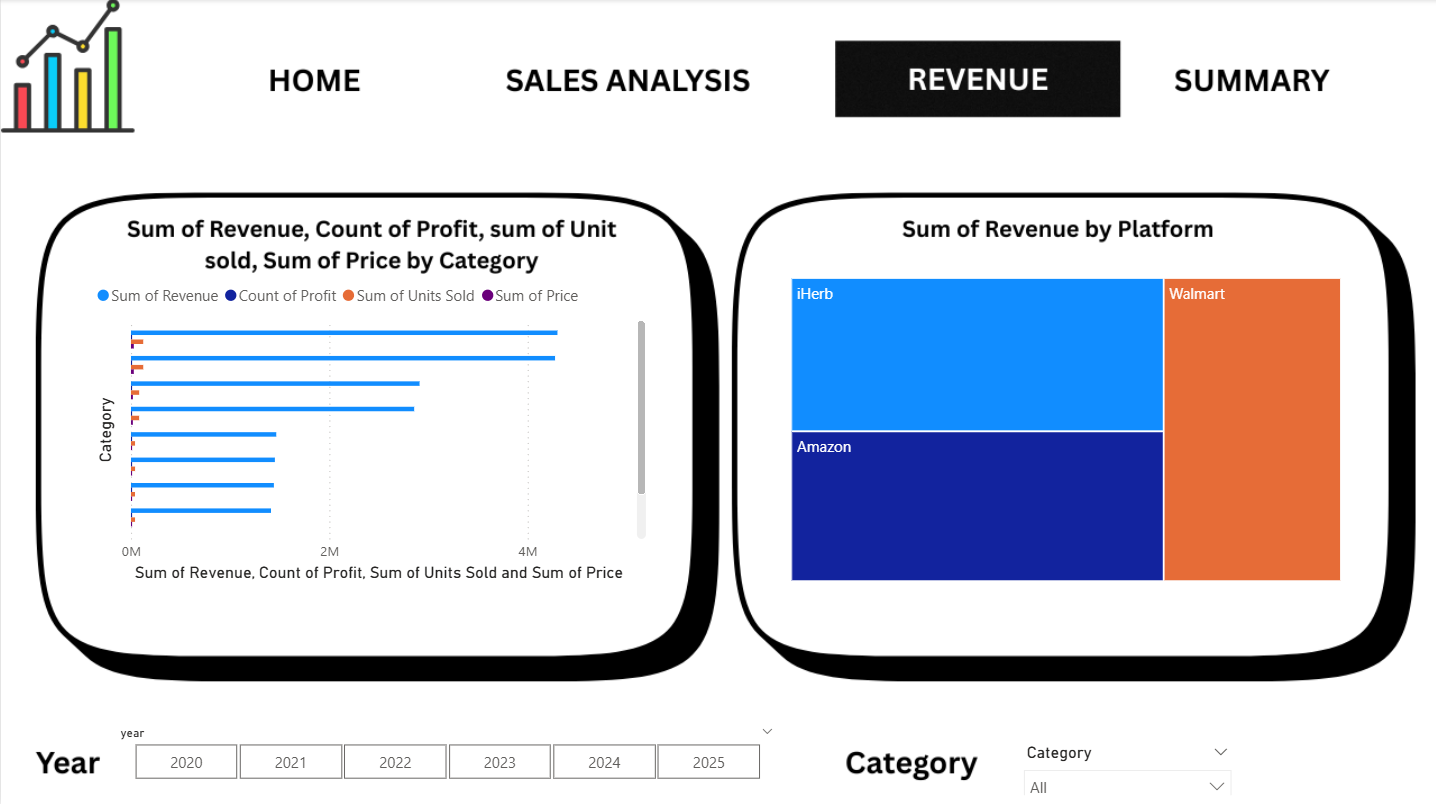

What the dashboard file says about the page in this screenshot:
{"tool":"powerbi","page":{"name":"Revenue","canvas":[1280,720],"ordinal":2},"visuals":[{"type":"clusteredBarChart","fields":{"Category":["sales_data salesdataanalysis.Category"],"Y":["Sum(sales_data salesdataanalysis.Revenue)","CountNonNull(sales_data salesdataanalysis.Profit)","Sum(sales_data salesdataanalysis.Units Sold)","Sum(sales_data salesdataanalysis.Price)"]},"box":[79.8,244.2,499.4,279.8],"z":0},{"type":"treemap","fields":{"Values":["Sum(sales_data salesdataanalysis.Revenue)"],"Group":["sales_data salesdataanalysis.Platform"]},"box":[699.4,244.2,499.4,279.8],"z":1},{"type":"slicer","fields":{"Values":["sales_data salesdataanalysis.year"]},"box":[93.3,642.2,606.5,59],"z":2},{"type":"actionButton","box":[215.4,50.8,152.3,39.8],"z":3},{"type":"actionButton","box":[443.2,52.1,227.8,39.8],"z":4},{"type":"actionButton","box":[1030.5,50.8,168.8,39.8],"z":5},{"type":"slicer","fields":{"Values":["sales_data salesdataanalysis.Category"]},"box":[900.6,657.7,204.9,51.5],"z":6}]}

Visuals, with their boxes in screenshot pixels (x1, y1, x2, y2), scaled from the page's 1280x720 canvas onto the 1436x804 screenshot:
clusteredBarChart - sales_data salesdataanalysis.Category x Sum(sales_data salesdataanalysis.Revenue): 90, 273, 650, 585
treemap - Sum(sales_data salesdataanalysis.Revenue) x sales_data salesdataanalysis.Platform: 785, 273, 1345, 585
slicer - sales_data salesdataanalysis.year: 105, 717, 785, 783
actionButton: 242, 57, 413, 101
actionButton: 497, 58, 753, 103
actionButton: 1156, 57, 1345, 101
slicer - sales_data salesdataanalysis.Category: 1010, 734, 1240, 792
